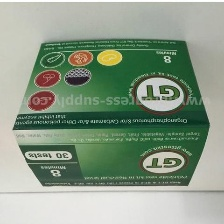book: (7, 35, 213, 188)
